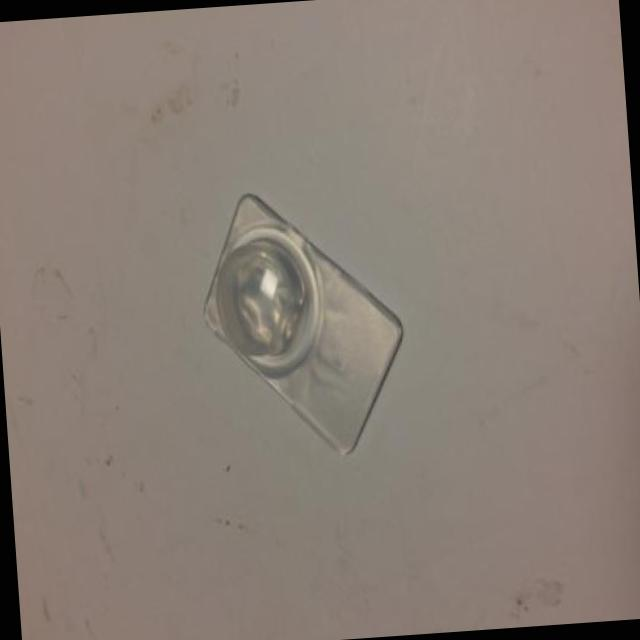Recycle: (190, 181, 412, 467)
